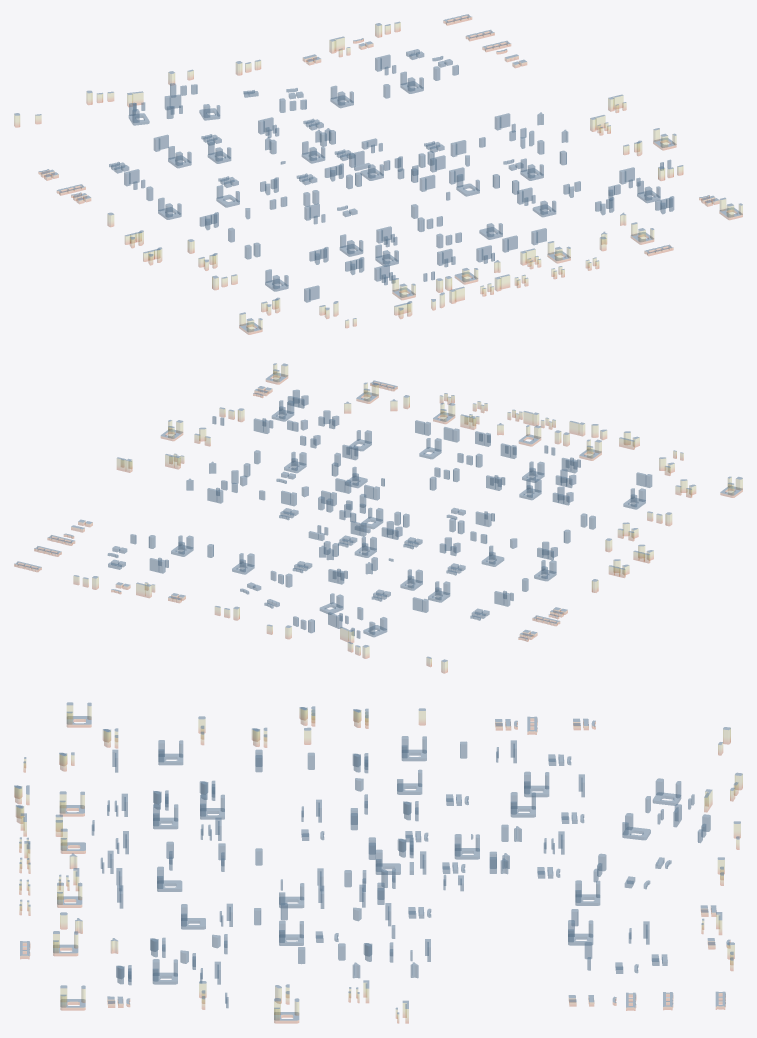
3 views of the same model, one above another, from view 1: azimuth 30°, elevation 25°; view 2: azimuth 150°, elevation 25°; view 3: azimuth 270°, elevation 25° (orthographic). The views are drawn at different scales.
Visible parts, largest first — view 1: 1006??; view 2: 1006??; view 3: 1006??.
Part boxes in pixels (<box>): 1006??: <box>14,14,742,334</box>; 1006??: <box>14,363,742,673</box>; 1006??: <box>14,702,742,1023</box>.
Bounding box in the file's own units: 3400 × 86.88 × 3415.
Materials: 2 (2 with a texture image).
